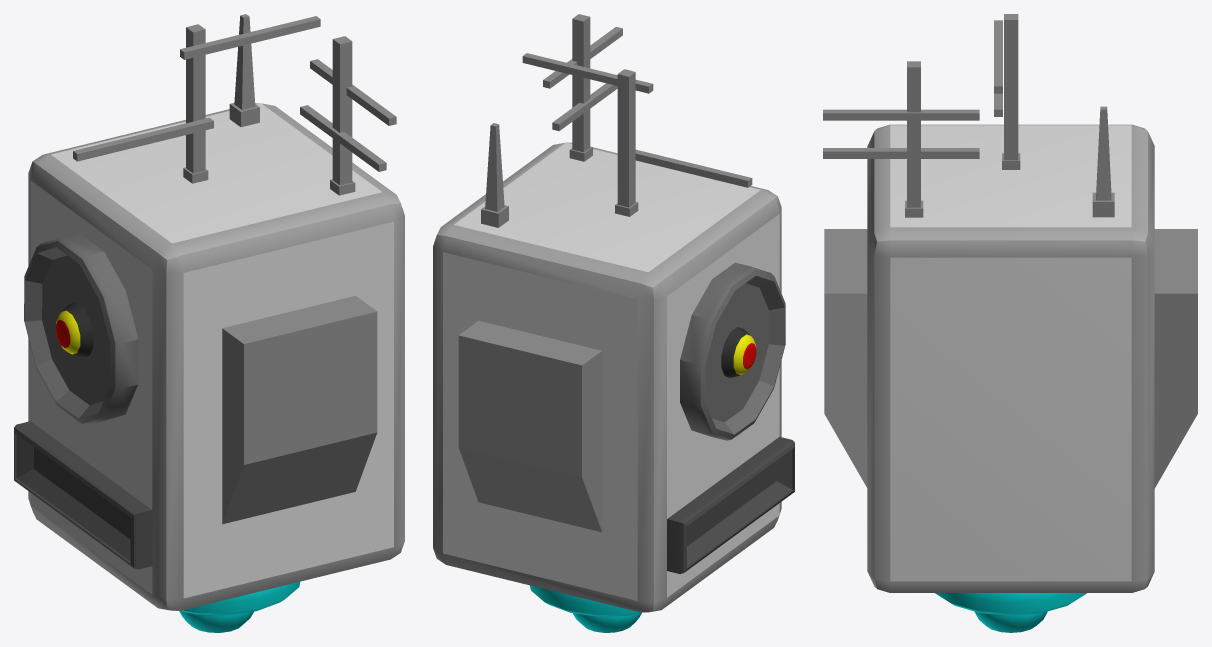
The model's file is little_robot.fbx.
3 renders of one model, left to right at view 1: azimuth 30°, elevation 25°; view 2: azimuth 150°, elevation 25°; view 3: azimuth 270°, elevation 25°, orthographic. The views are drawn at different scales.
Visible parts, largest first — view 1: polySurface3; view 2: polySurface3; view 3: polySurface3.
Boxes of the visible parts, x1,y1,x2,y2 form: polySurface3: (14,14,404,632); polySurface3: (433,14,794,632); polySurface3: (823,14,1197,632).
Size of the model in its own units: 1.12 by 2.29 by 1.3.
